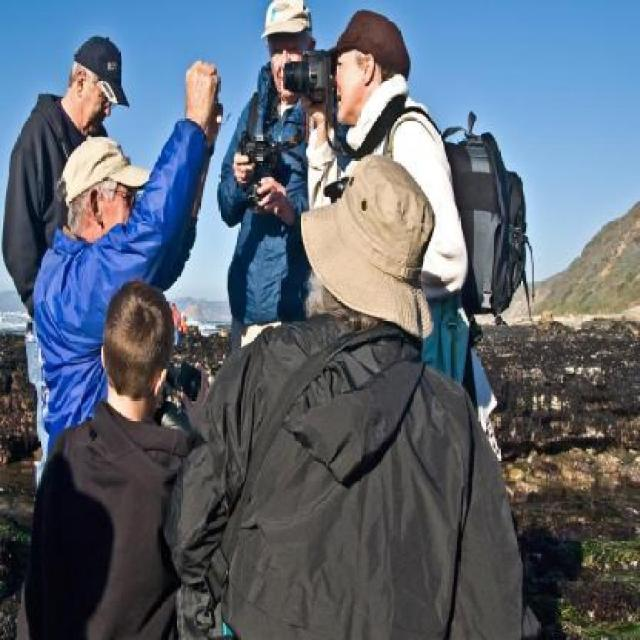backpack: (449, 105, 538, 328)
